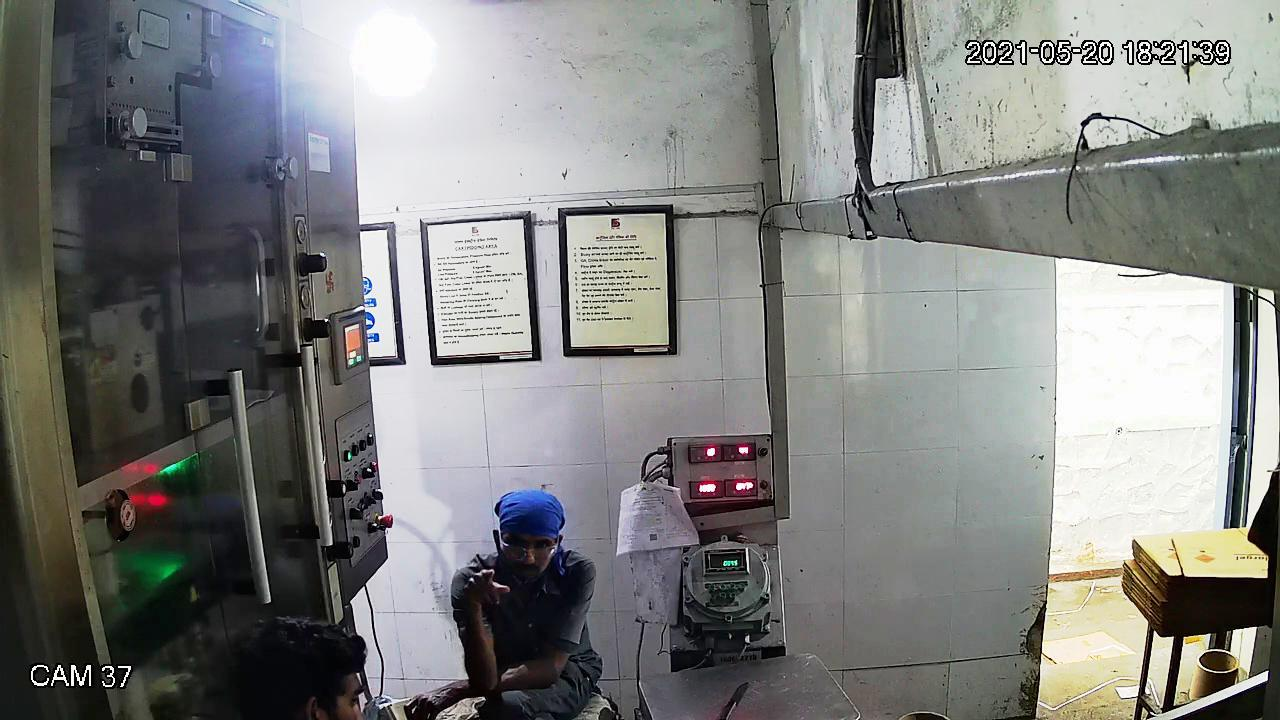Person: (440, 488, 604, 718)
